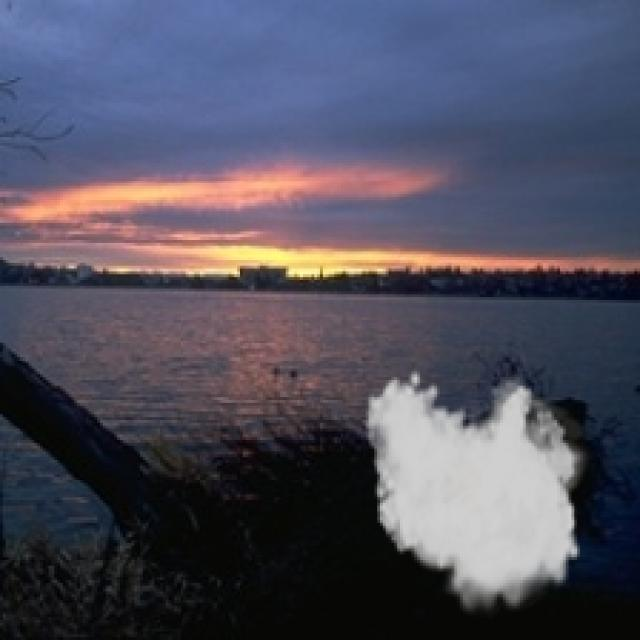smoke: (363, 369, 594, 620)
